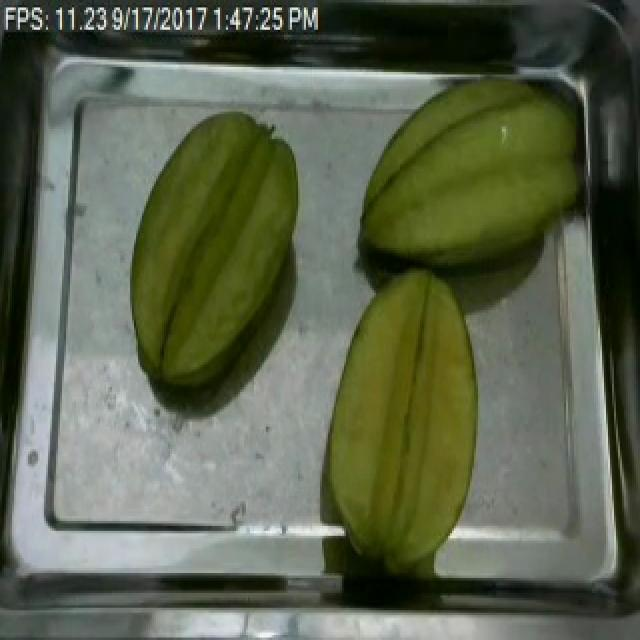fruit: (308, 255, 492, 588), (116, 102, 310, 407), (348, 69, 594, 283)
